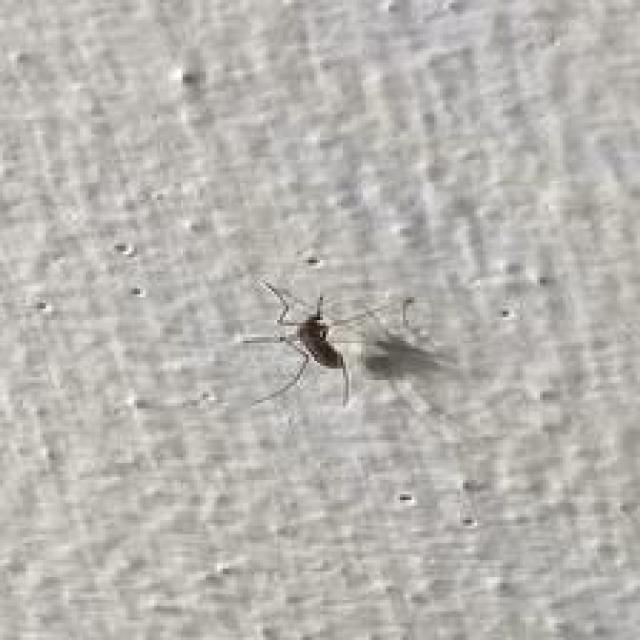Culex: (240, 278, 454, 418)
